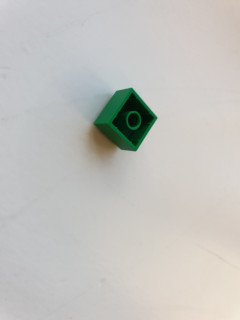2x2 green: (95, 86, 160, 157)
